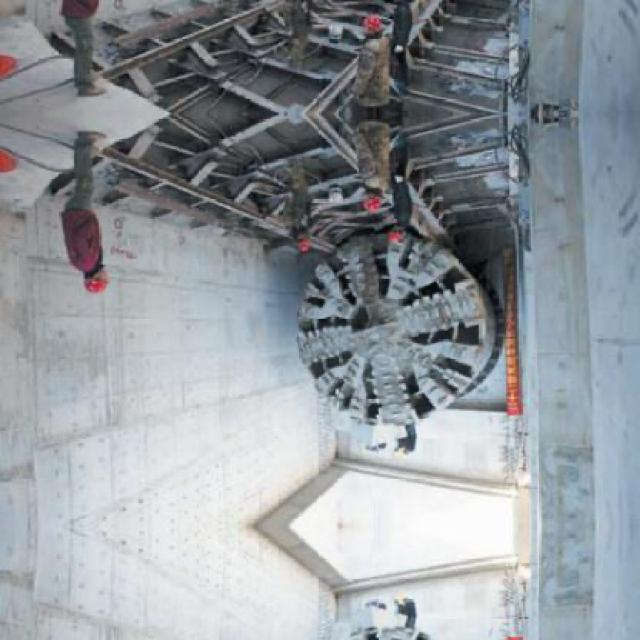con casco: (60, 256, 120, 301), (355, 187, 405, 214), (355, 230, 420, 247)
